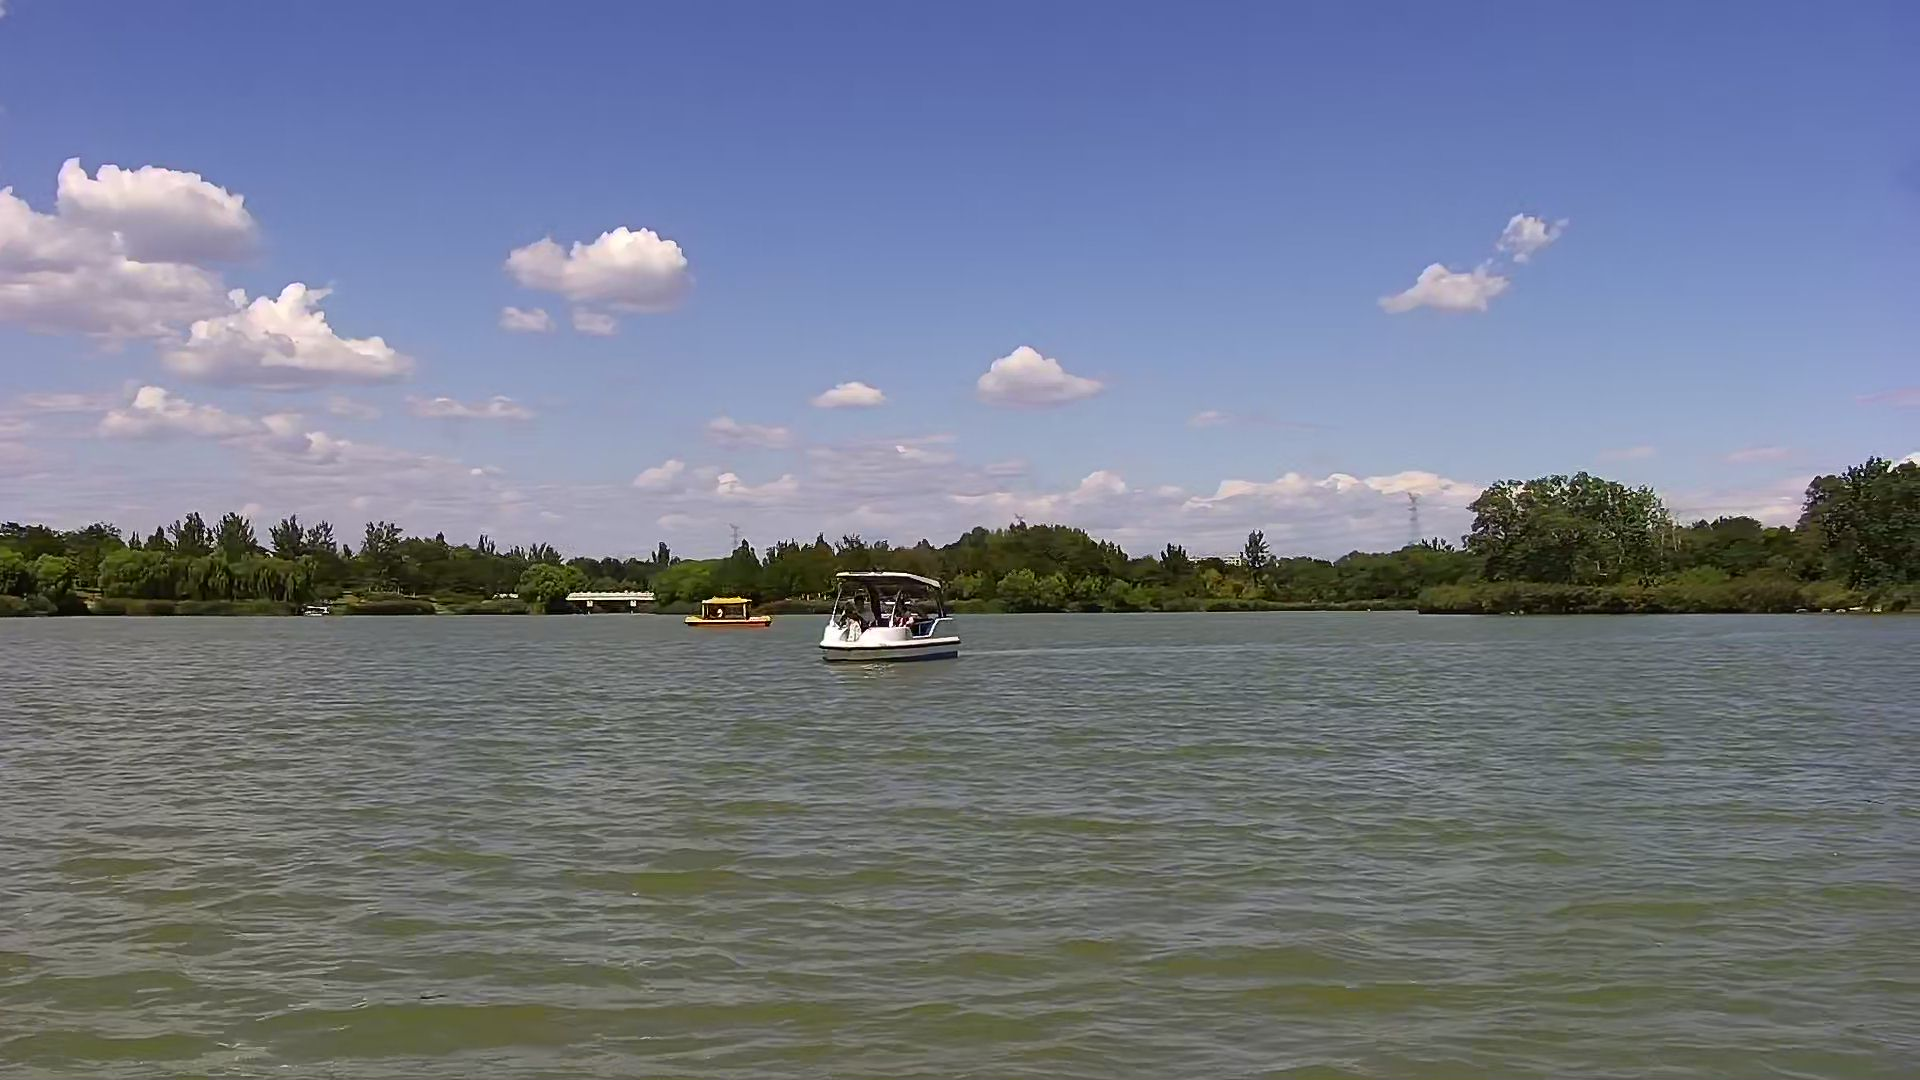boat: (819, 568, 957, 665), (686, 591, 769, 624)
bridge: (571, 589, 655, 617)
